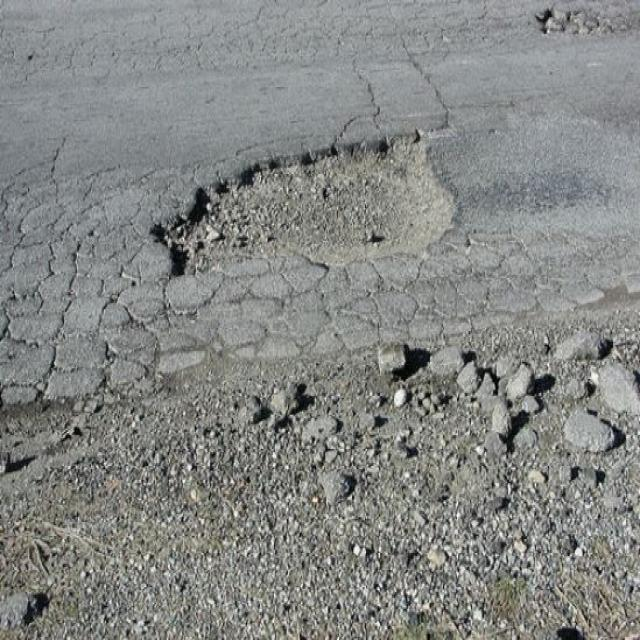pothole: (147, 124, 478, 280)
